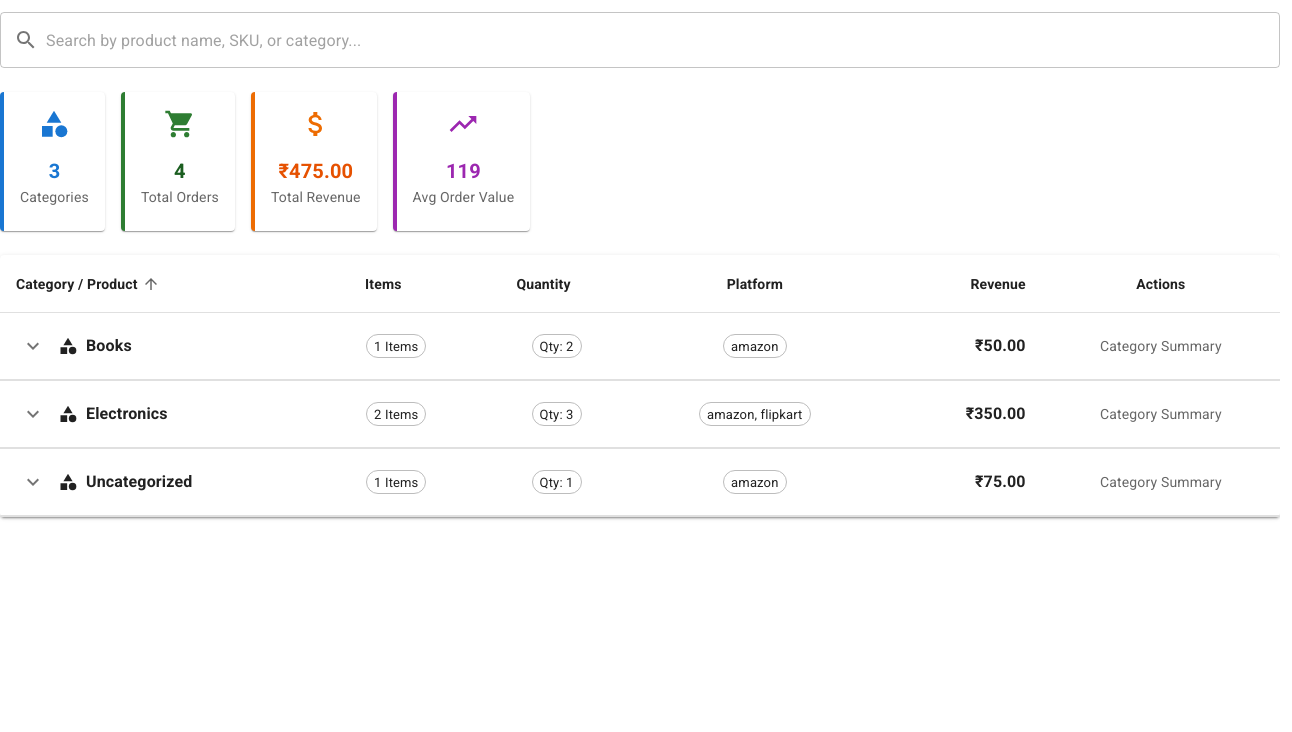
CategoryGroupedTable › filters data when searching
This screenshot has width=1292, height=732.
Type "Electronics" into the field with placeholder "Search by product name, SKU, or category..." at (663, 40), box x1=46 y1=12 x2=1280 y2=68
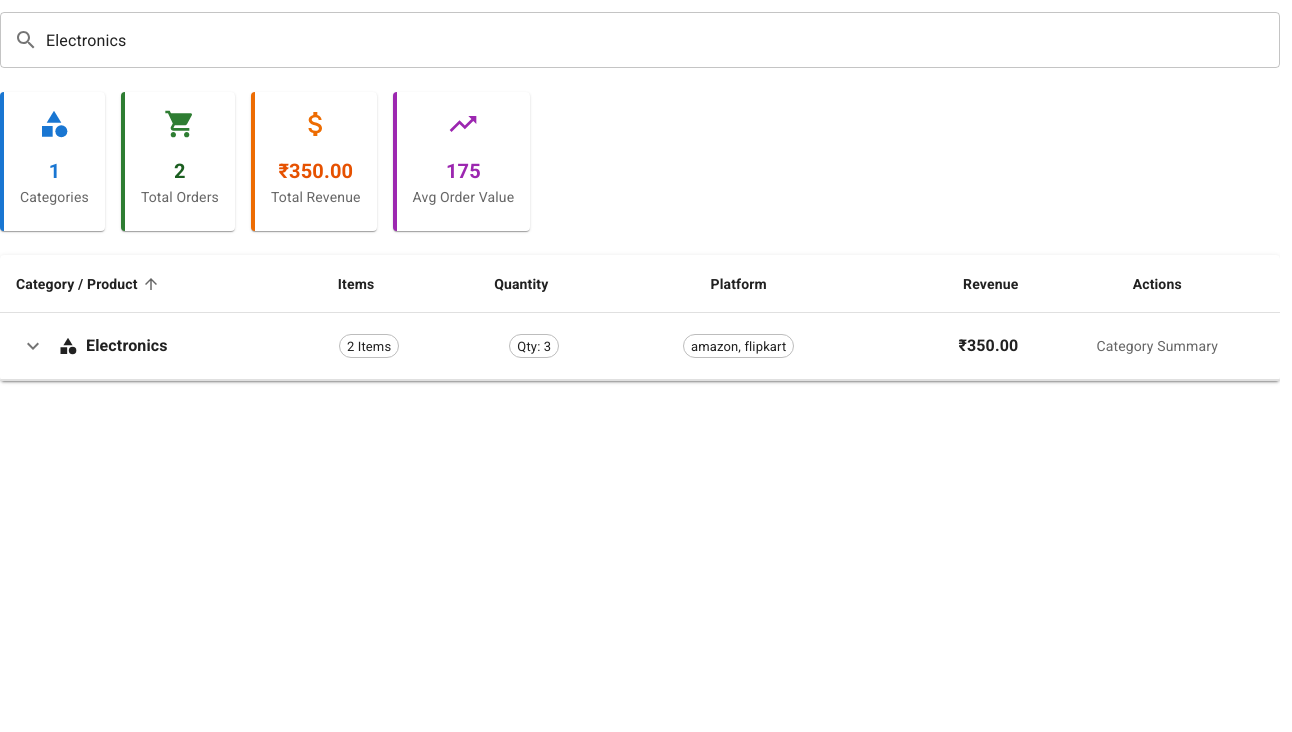
Check: the heading "Electronics" is shown, box x1=86 y1=332 x2=168 y2=360
Check: the button "Books" is gone
